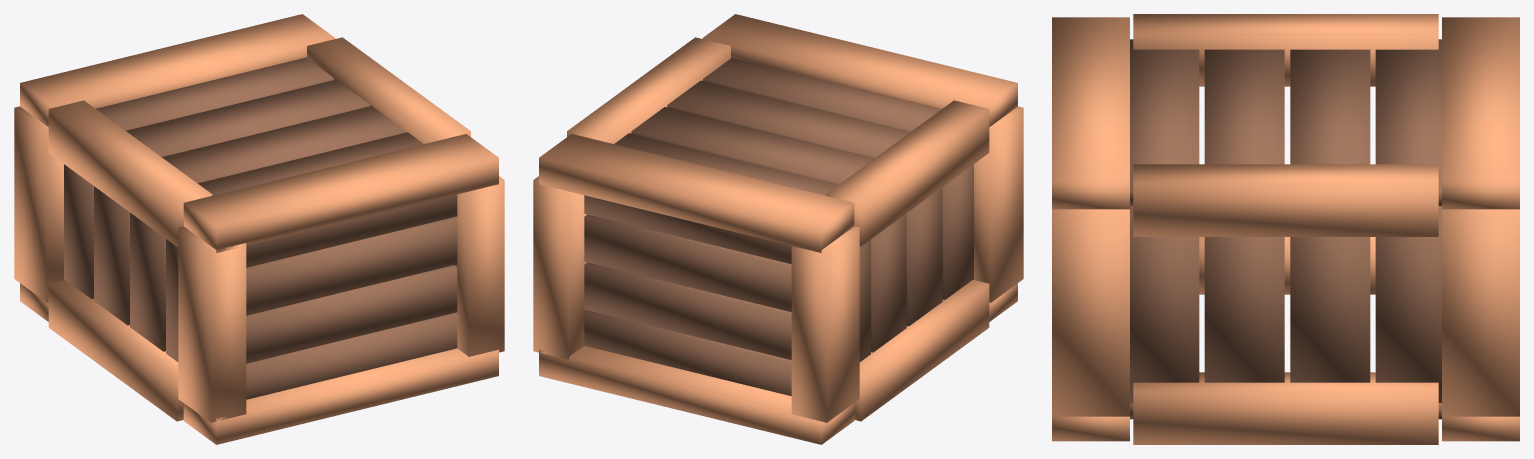
File: KapaliKasa.fbx
3 views of the same model, side by side, from view 1: azimuth 30°, elevation 25°; view 2: azimuth 150°, elevation 25°; view 3: azimuth 270°, elevation 25° (orthographic). The views are drawn at different scales.
Parts seen in each view (by area): view 1: KapaliKasa; view 2: KapaliKasa; view 3: KapaliKasa.
Boxes of the visible parts, x1,y1,x2,y2 form: KapaliKasa: [14, 14, 504, 444]; KapaliKasa: [533, 14, 1023, 444]; KapaliKasa: [1052, 14, 1519, 444].
Size of the model in its own units: 100 by 71.02 by 116.
Materials: 2 (2 with a texture image).
